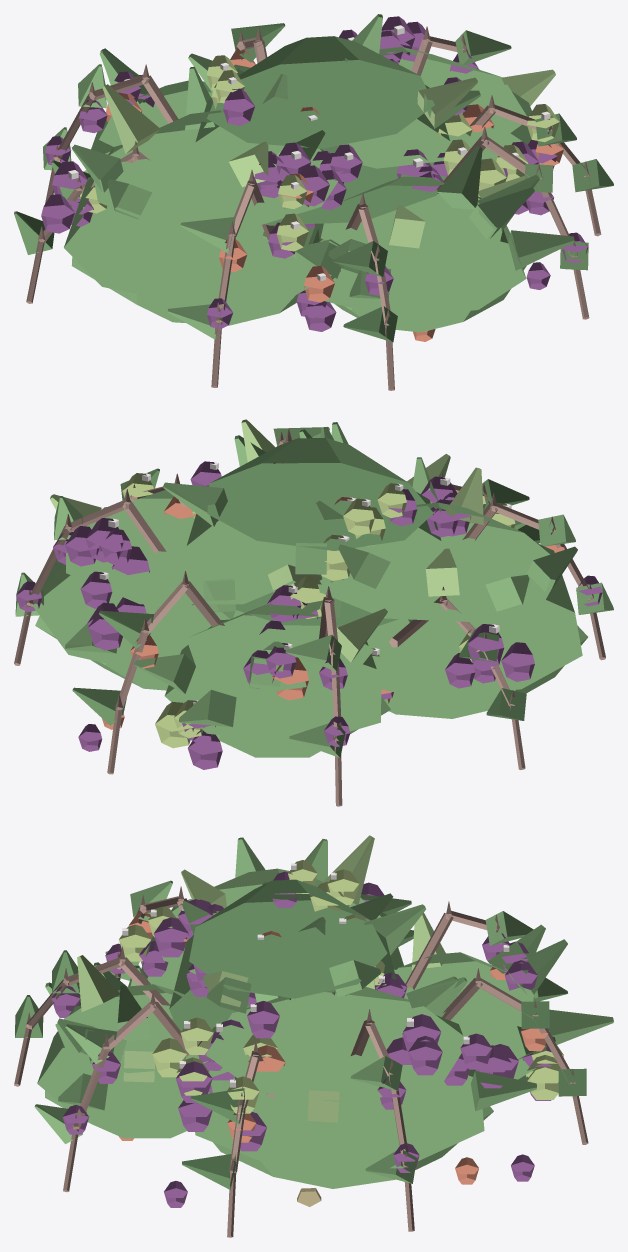
Rendered from berry_bush_2.glb.
3 views of the same model, one above another, from view 1: azimuth 30°, elevation 25°; view 2: azimuth 150°, elevation 25°; view 3: azimuth 270°, elevation 25° (orthographic).
Parts seen in each view (by area): view 1: Leaves#9, Leaves#2, Leaves#3, Leaves#11, Leaves#6, Leaves#12, Leaves#8, Leaves, Leaf#5, Leaf#10, Leaves#15, Leaf#38 (+37 smaller); view 2: Leaves#9, Leaves#3, Leaves#2, Leaves#6, Leaves#14, Leaves#15, Leaves#5, Leaves, Leaves#8, Leaves#13, Leaf#31, Leaf#18 (+35 smaller); view 3: Leaves#6, Leaves#9, Leaves#5, Leaves#11, Leaves#15, Leaves#12, Leaves#4, Leaves#8, Leaf#14, Leaves#3, Leaf#31, Leaf#25 (+47 smaller).
Part boxes in pixels (x1,y1,x2,y2): Leaves#9: (207, 36, 434, 148); Leaves#2: (64, 145, 343, 305); Leaves#3: (94, 110, 337, 228); Leaves#11: (308, 197, 526, 317); Leaves#6: (343, 47, 526, 168); Leaves#12: (321, 176, 502, 263); Leaves#8: (195, 85, 449, 225); Leaves: (71, 257, 340, 325); Leaf#5: (102, 84, 160, 153); Leaf#10: (437, 146, 482, 209); Leaves#15: (99, 80, 212, 146); Leaf#38: (508, 230, 574, 270); Leaves#9: (207, 438, 433, 550); Leaves#3: (317, 502, 555, 621); Leaves#2: (347, 543, 582, 697); Leaves#6: (66, 490, 295, 604); Leaves#14: (164, 619, 381, 745); Leaves#15: (186, 604, 373, 691); Leaves#5: (33, 507, 244, 676); Leaves: (384, 625, 587, 718); Leaves#8: (186, 492, 441, 626); Leaves#13: (216, 696, 390, 757); Leaf#31: (179, 689, 236, 727); Leaf#18: (163, 482, 227, 526); Leaves#6: (206, 986, 463, 1103); Leaves#9: (189, 879, 387, 998); Leaves#5: (195, 1015, 484, 1169); Leaves#11: (37, 1005, 183, 1127); Leaves#15: (394, 952, 533, 1036); Leaves#12: (55, 984, 216, 1073); Leaves#4: (213, 1106, 493, 1188); Leaves#8: (169, 911, 398, 1058); Leaf#14: (471, 1071, 536, 1111); Leaves#3: (162, 868, 380, 973); Leaf#31: (548, 1009, 613, 1044); Leaf#25: (77, 955, 119, 1011).
Size of the model in its own units: 2.27 by 1 by 2.36.
